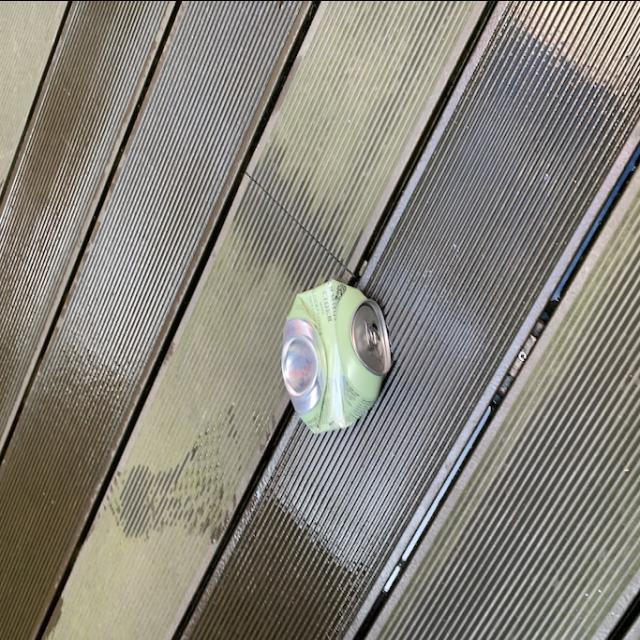litter: (279, 276, 392, 430)
